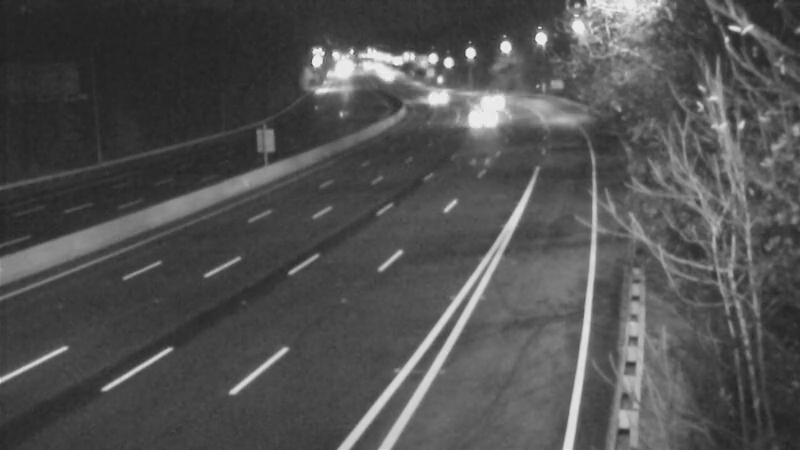vehicle: (408, 72, 458, 122), (466, 77, 516, 127), (459, 95, 509, 145)
